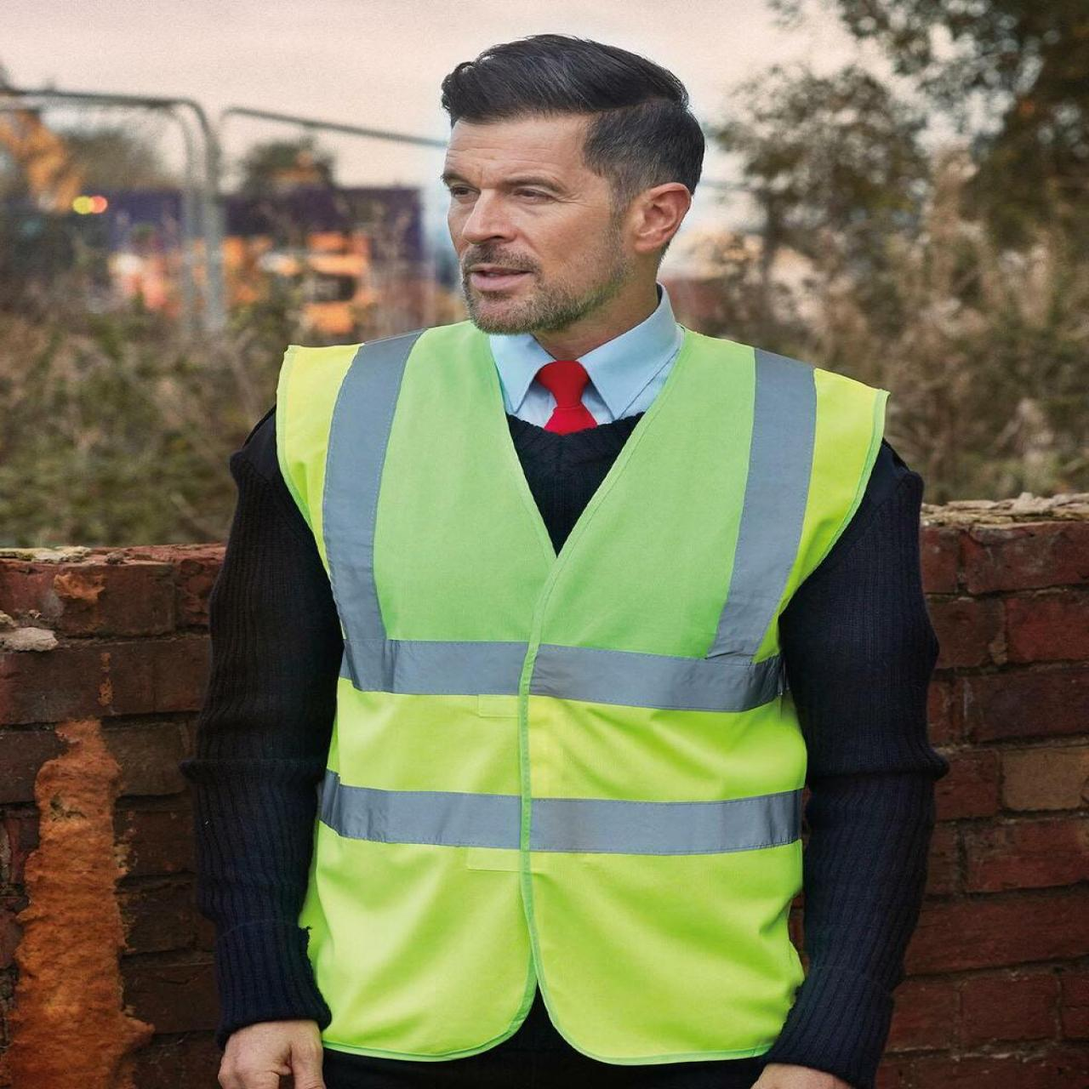Person: (131, 9, 969, 1089)
Safety_Vest: (267, 324, 889, 1065)
